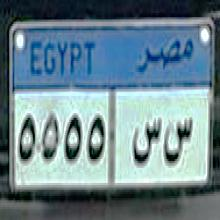5: (88, 114, 108, 164), (63, 116, 84, 162), (18, 117, 38, 164), (42, 113, 59, 164)
seen: (130, 116, 161, 168), (165, 115, 194, 169)
